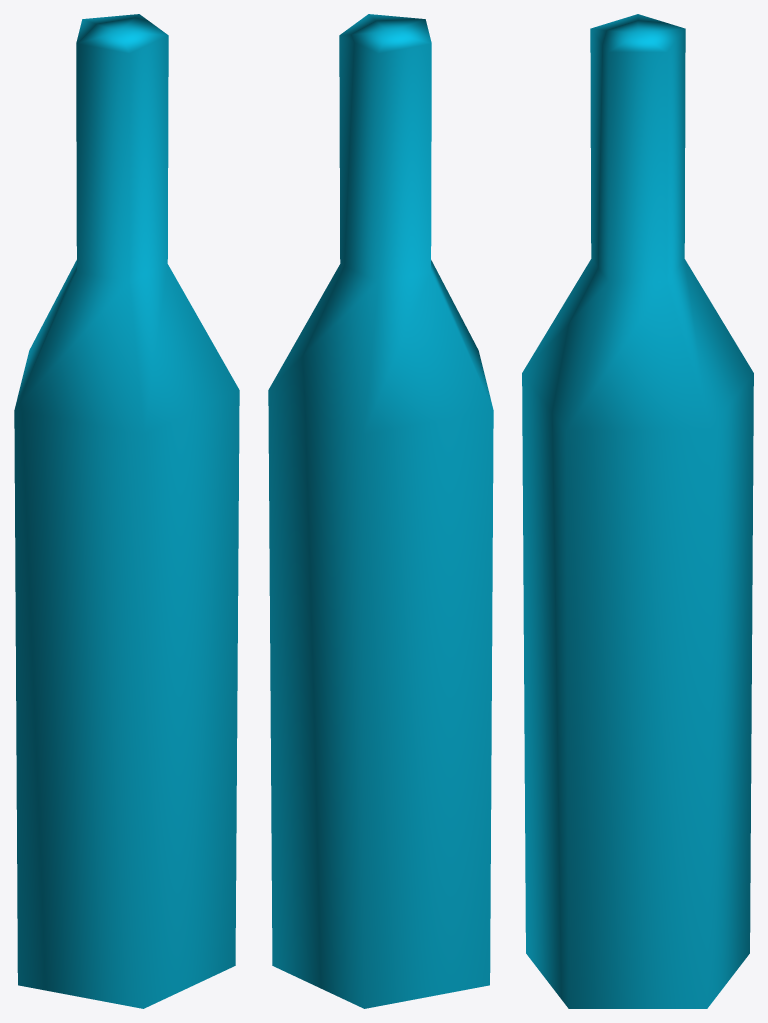
Rendered from Bottle_Wine_01_Lod1.fbx.
3 renders of one model, left to right at view 1: azimuth 30°, elevation 25°; view 2: azimuth 150°, elevation 25°; view 3: azimuth 270°, elevation 25°, orthographic.
Visible parts, largest first — view 1: Bottle_Wine_01_Lod1; view 2: Bottle_Wine_01_Lod1; view 3: Bottle_Wine_01_Lod1.
Part boxes in pixels (x1,y1,x2,y2): Bottle_Wine_01_Lod1: [14, 14, 239, 1008]; Bottle_Wine_01_Lod1: [268, 14, 493, 1008]; Bottle_Wine_01_Lod1: [522, 14, 753, 1008].
Bounding box in the file's own units: 6.25 × 29.24 × 6.57.
